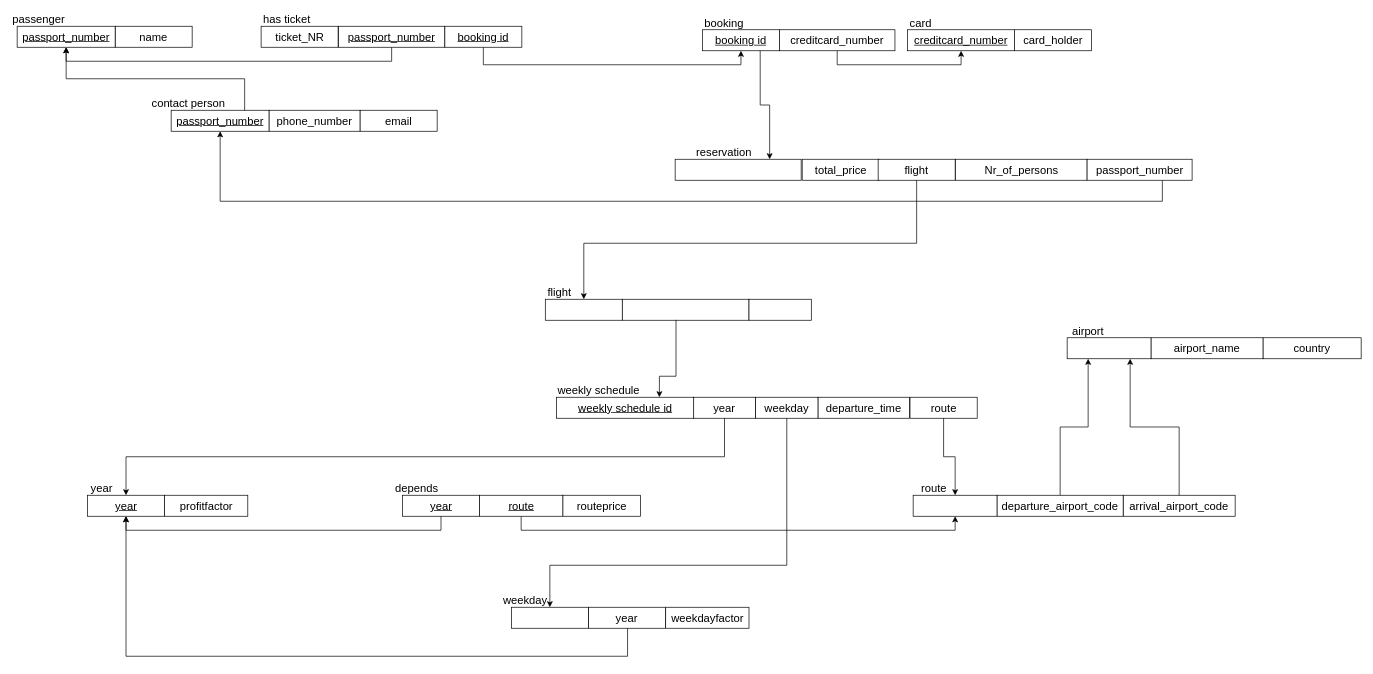
The diagram is 1373 pixels wide and 674 high, and some of its shapes have lost their labels. The shapes that lost their labels are listed below. From the top down, each one's box as (x1, y1, x2, y2) in pixels, then its label:
(674, 159, 801, 180): reservation_number
(545, 299, 622, 320): flightnumber
(622, 299, 749, 320): weekly_schedule
(748, 299, 811, 320): week
(1066, 337, 1151, 359): airport_code
(912, 495, 997, 516): route id
(511, 607, 588, 628): day
